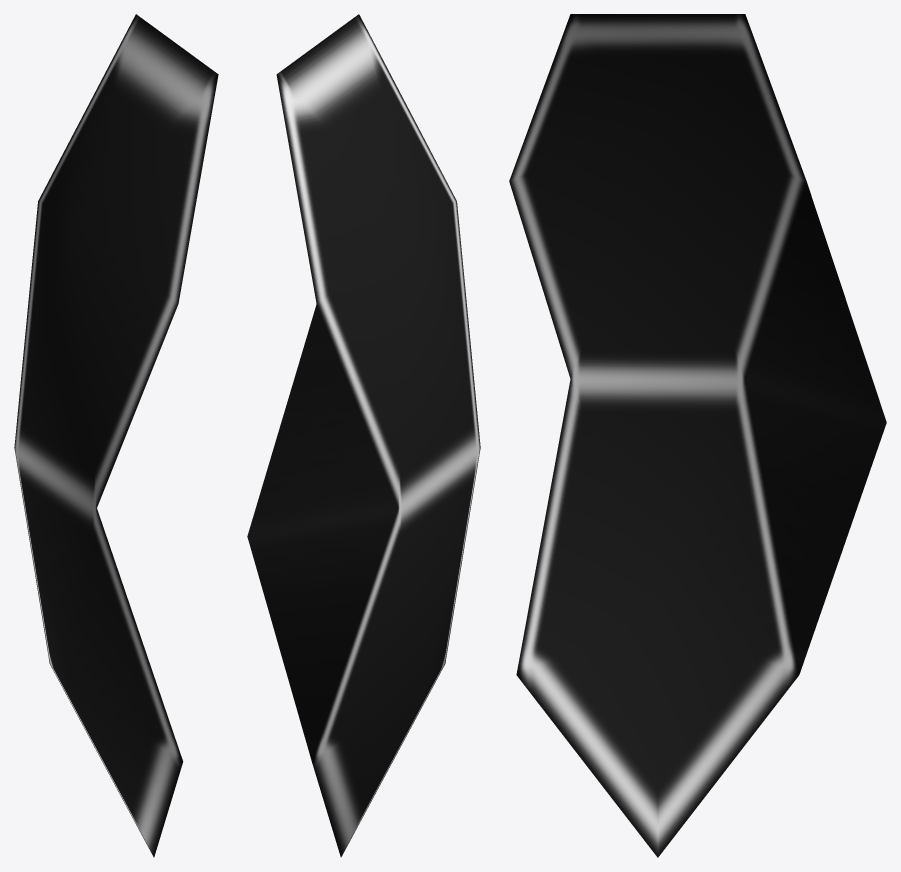
File: Particle_puja_flyingrobot04_attack3_Sheild01.FBX
3 views of the same model, side by side, from view 1: azimuth 30°, elevation 25°; view 2: azimuth 150°, elevation 25°; view 3: azimuth 270°, elevation 25° (orthographic). The views are drawn at different scales.
Parts seen in each view (by area): view 1: Object002; view 2: Object002; view 3: Object002.
Boxes of the visible parts, x1,y1,x2,y2 form: Object002: (14, 14, 218, 857); Object002: (247, 14, 480, 857); Object002: (509, 14, 886, 857).
Bounding box in the file's own units: 5.26 × 33.38 × 13.35.
